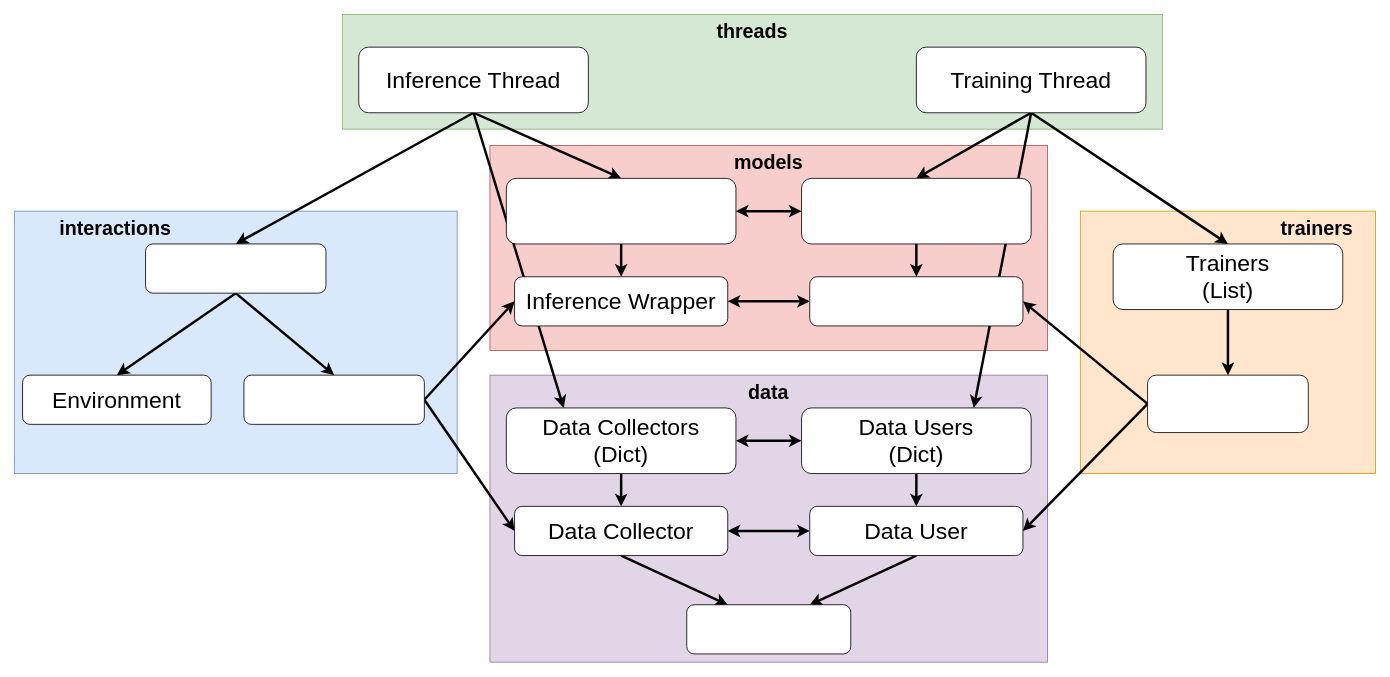
The diagram is 1390 pixels wide and 677 high, and some of its shapes have lost their labels. The shapes that lost their labels are listed below. From the top down, each one's centre as x and y in pixels, then its label:
At point 621,211: "Inference Wrappers (Dict)".
At point 916,211: "Model Wrappers (Dict)".
At point 235,268: "Interaction".
At point 916,301: "Model Wrapper".
At point 333,399: "Agent".
At point 1227,403: "Trainer".
At point 768,629: "Data Buffer".
